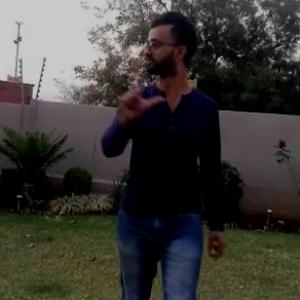land_hand: (111, 67, 165, 122)
